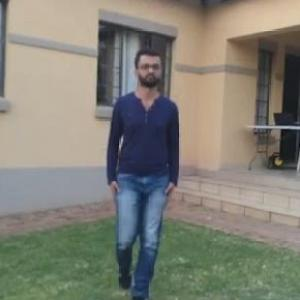follow: (106, 37, 184, 275)
